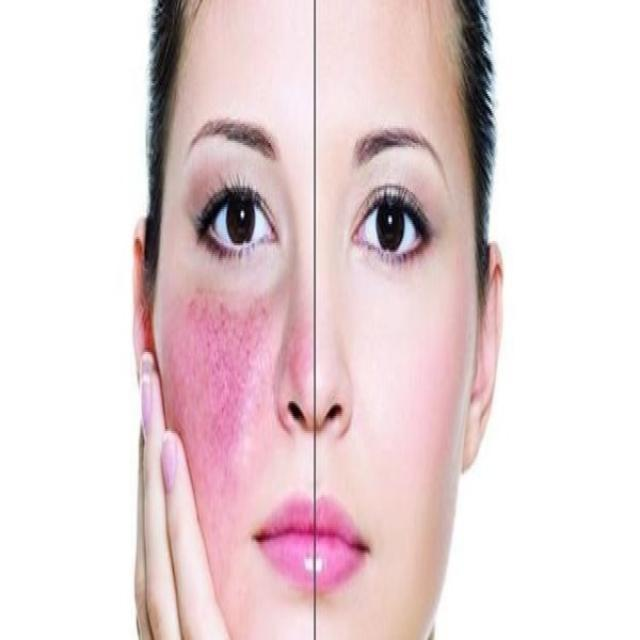Rosacea: (143, 276, 276, 555)
